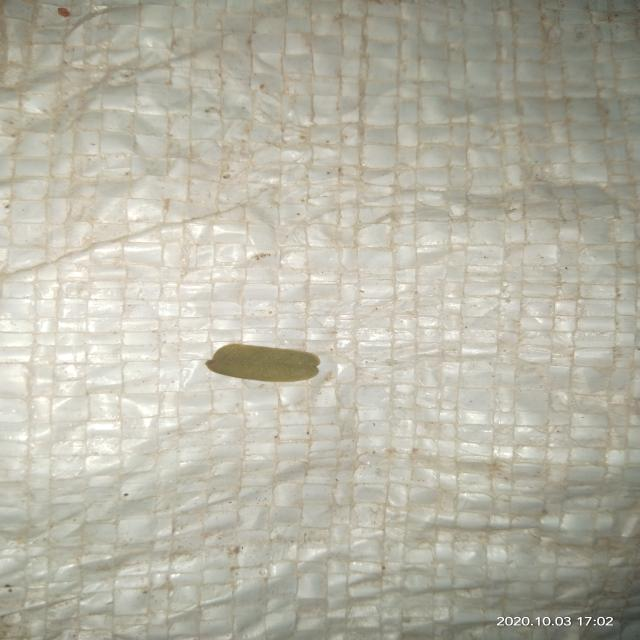tamarind: (205, 344, 320, 382), (212, 344, 320, 366)
